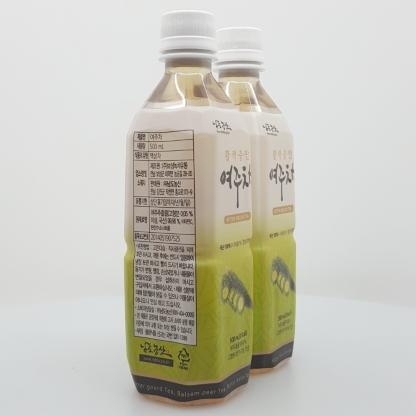-----------500ML: (124, 10, 254, 406)
